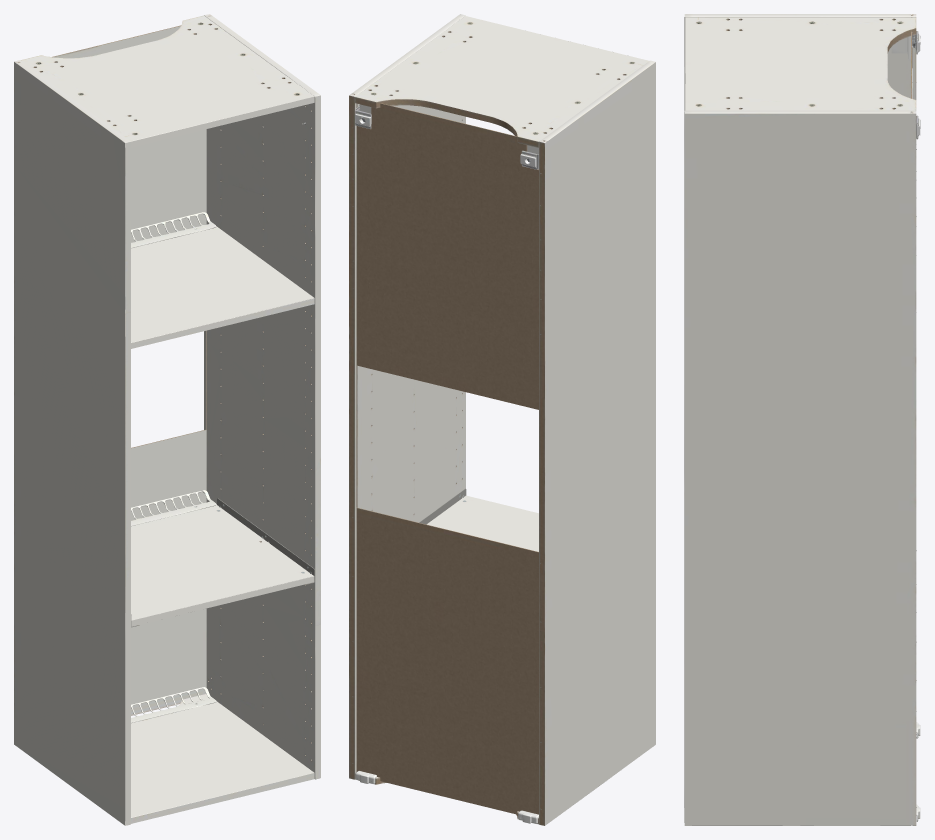
Rendered from metod_90213568.glb.
3 renders of one model, left to right at view 1: azimuth 30°, elevation 25°; view 2: azimuth 150°, elevation 25°; view 3: azimuth 270°, elevation 25°, orthographic. The views are drawn at different scales.
Visible parts, largest first — view 1: metod_90213568; view 2: metod_90213568; view 3: metod_90213568.
Part boxes in pixels (left/top/right/bottom): metod_90213568: left=14, top=14, right=320, bottom=825; metod_90213568: left=349, top=14, right=655, bottom=825; metod_90213568: left=684, top=14, right=920, bottom=825.
Size of the model in its own units: 0.6 by 2 by 0.6006.
1 material, 1 textured.
